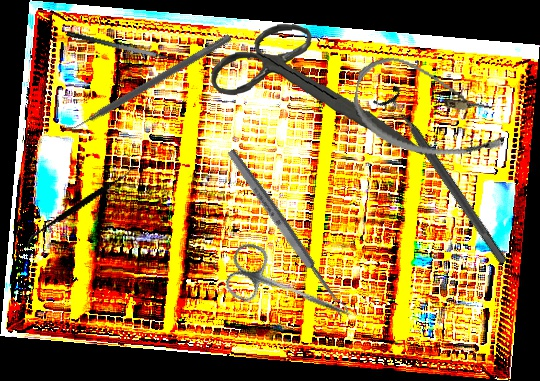Cannula: (346, 50, 516, 169)
Fixation Ring: (371, 83, 518, 272)
Iris Scissors: (207, 13, 424, 171), (220, 239, 363, 339)
Spatula Surgical: (62, 26, 233, 137), (25, 137, 136, 275), (65, 19, 194, 70)
Surgical Spoon: (225, 147, 350, 318)
